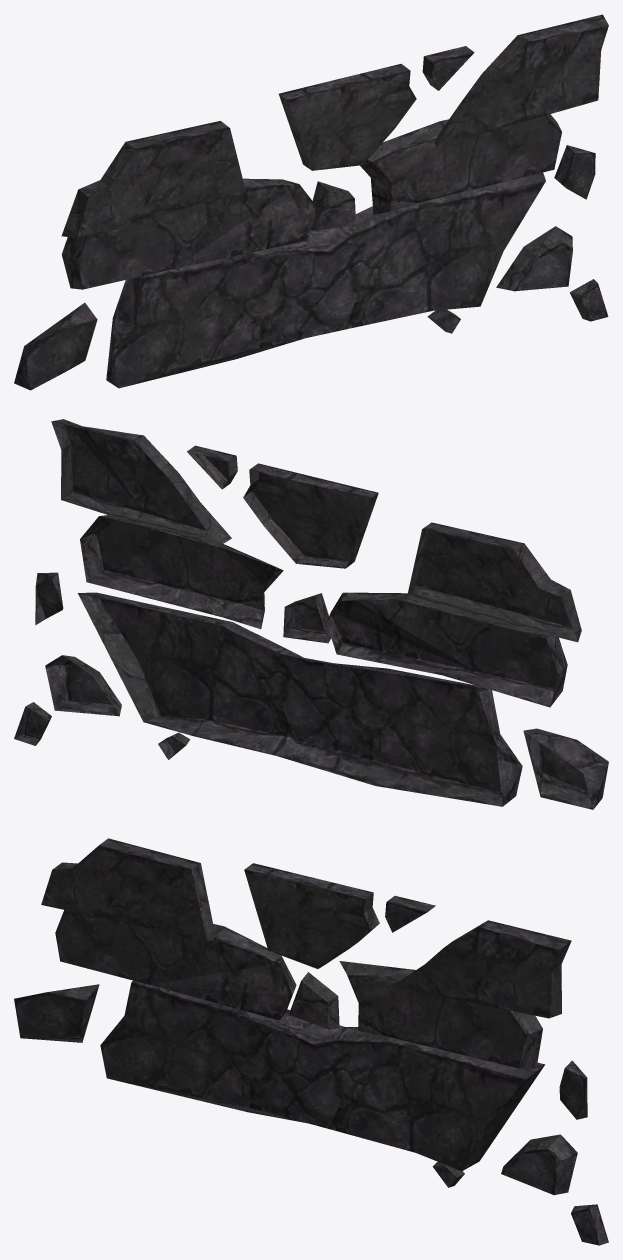
File: beiou_yewai_30_common_tree_shijie_01.obj
The picture shows the model from 3 angles, top to bottom: view 1: azimuth 30°, elevation 25°; view 2: azimuth 150°, elevation 25°; view 3: azimuth 330°, elevation 25°; orthographic projection.
Parts seen in each view (by area): view 1: beiou_yewai_30_common_tree_shijie_01; view 2: beiou_yewai_30_common_tree_shijie_01; view 3: beiou_yewai_30_common_tree_shijie_01.
Part boxes in pixels (left/top/right/bottom): beiou_yewai_30_common_tree_shijie_01: left=14, top=14, right=608, bottom=390; beiou_yewai_30_common_tree_shijie_01: left=14, top=419, right=608, bottom=809; beiou_yewai_30_common_tree_shijie_01: left=14, top=838, right=608, bottom=1245.
Bounding box in the file's own units: 151 × 77.54 × 12.65.
1 material, 1 textured.
